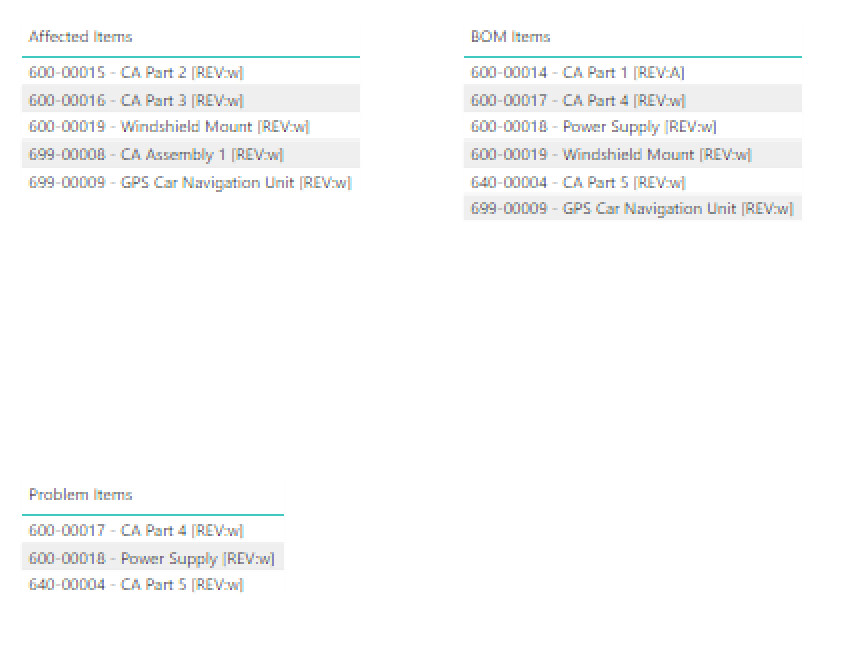

The page's visual inventory and layout, read from the dashboard file:
{"tool":"powerbi","page":{"name":"Page 1","canvas":[1280,720],"ordinal":0},"visuals":[{"type":"tableEx","fields":{"Values":["WfItems_Descriptor_Frame.Affected Items"]},"box":[10,20,280,280],"z":1},{"type":"tableEx","fields":{"Values":["BOMItems_Problem_Frame.Problem Items"]},"box":[10,320,280,280],"z":2},{"type":"tableEx","fields":{"Values":["BOMItems_Descriptor_Frame.BOM Items"]},"box":[300,20,280,280],"z":3}]}

Visuals, with their boxes on the page's 1280x720 design canvas (x1, y1, x2, y2). These are canvas units, not pixel positions in the 866x652 screenshot, which may show the page scaled, cropped or inside an application window:
tableEx - WfItems_Descriptor_Frame.Affected Items: bbox=(10, 20, 290, 300)
tableEx - BOMItems_Problem_Frame.Problem Items: bbox=(10, 320, 290, 600)
tableEx - BOMItems_Descriptor_Frame.BOM Items: bbox=(300, 20, 580, 300)
